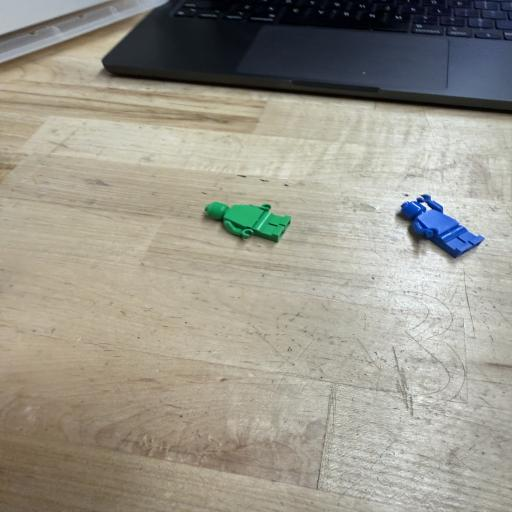blue-minifig: (401, 194, 484, 257)
green-minifig: (205, 202, 290, 241), (270, 233, 309, 244)
